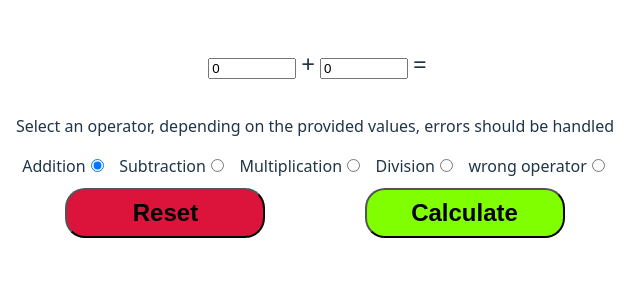
Test case: CalculateForm Test › Multiplications › with integers
Click the radio button with id "multiplication".
click(354, 166)  # box [347,159,360,172]
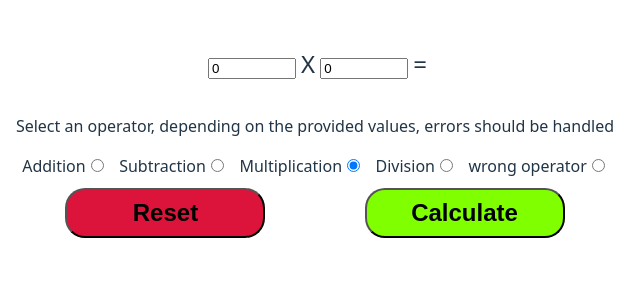
Replace the text in the number field with id "input1" with "5" at (252, 68), box [208,58,296,79]
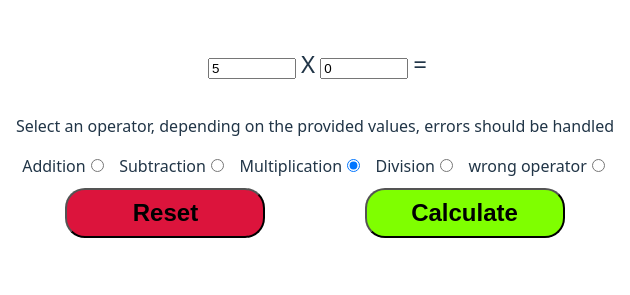
Replace the text in the number field with id "input2" with "5" at (364, 68), box [320,58,408,79]
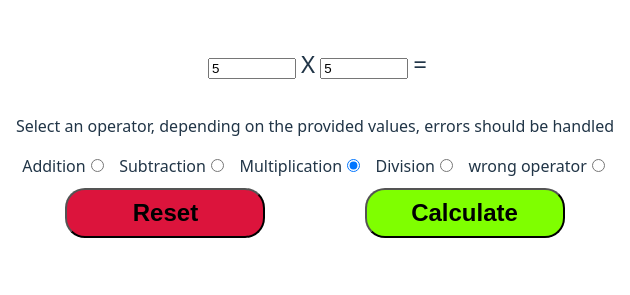
Click the button "Calculate".
click(464, 213)  # box [364,188,564,238]
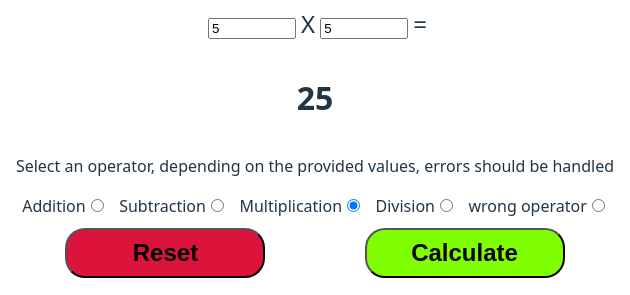
Expected: the text with id "result" reads "25", [297,76,333,119]
